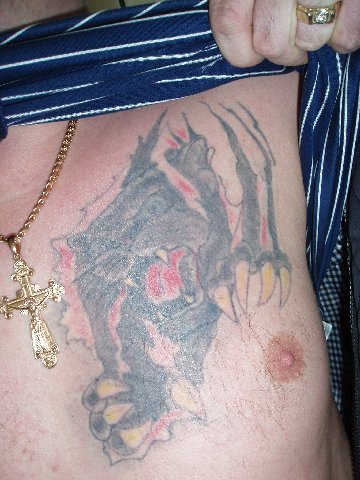tatu8_kot: (56, 96, 303, 461)
